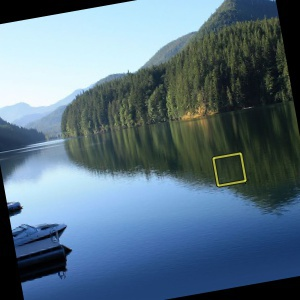square: (208, 150, 250, 189)
